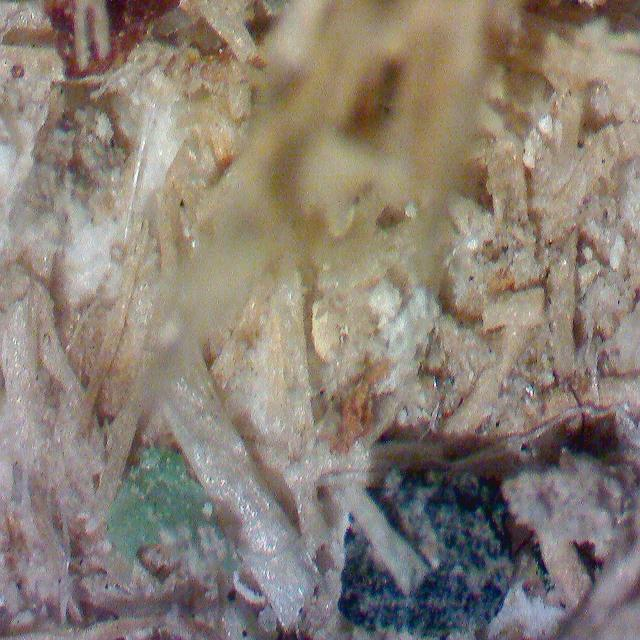microplastic: (104, 445, 224, 566)
